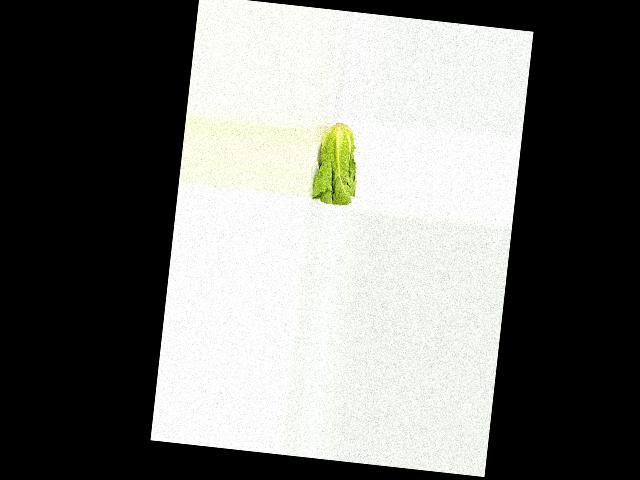lettuce: (310, 119, 364, 207)
